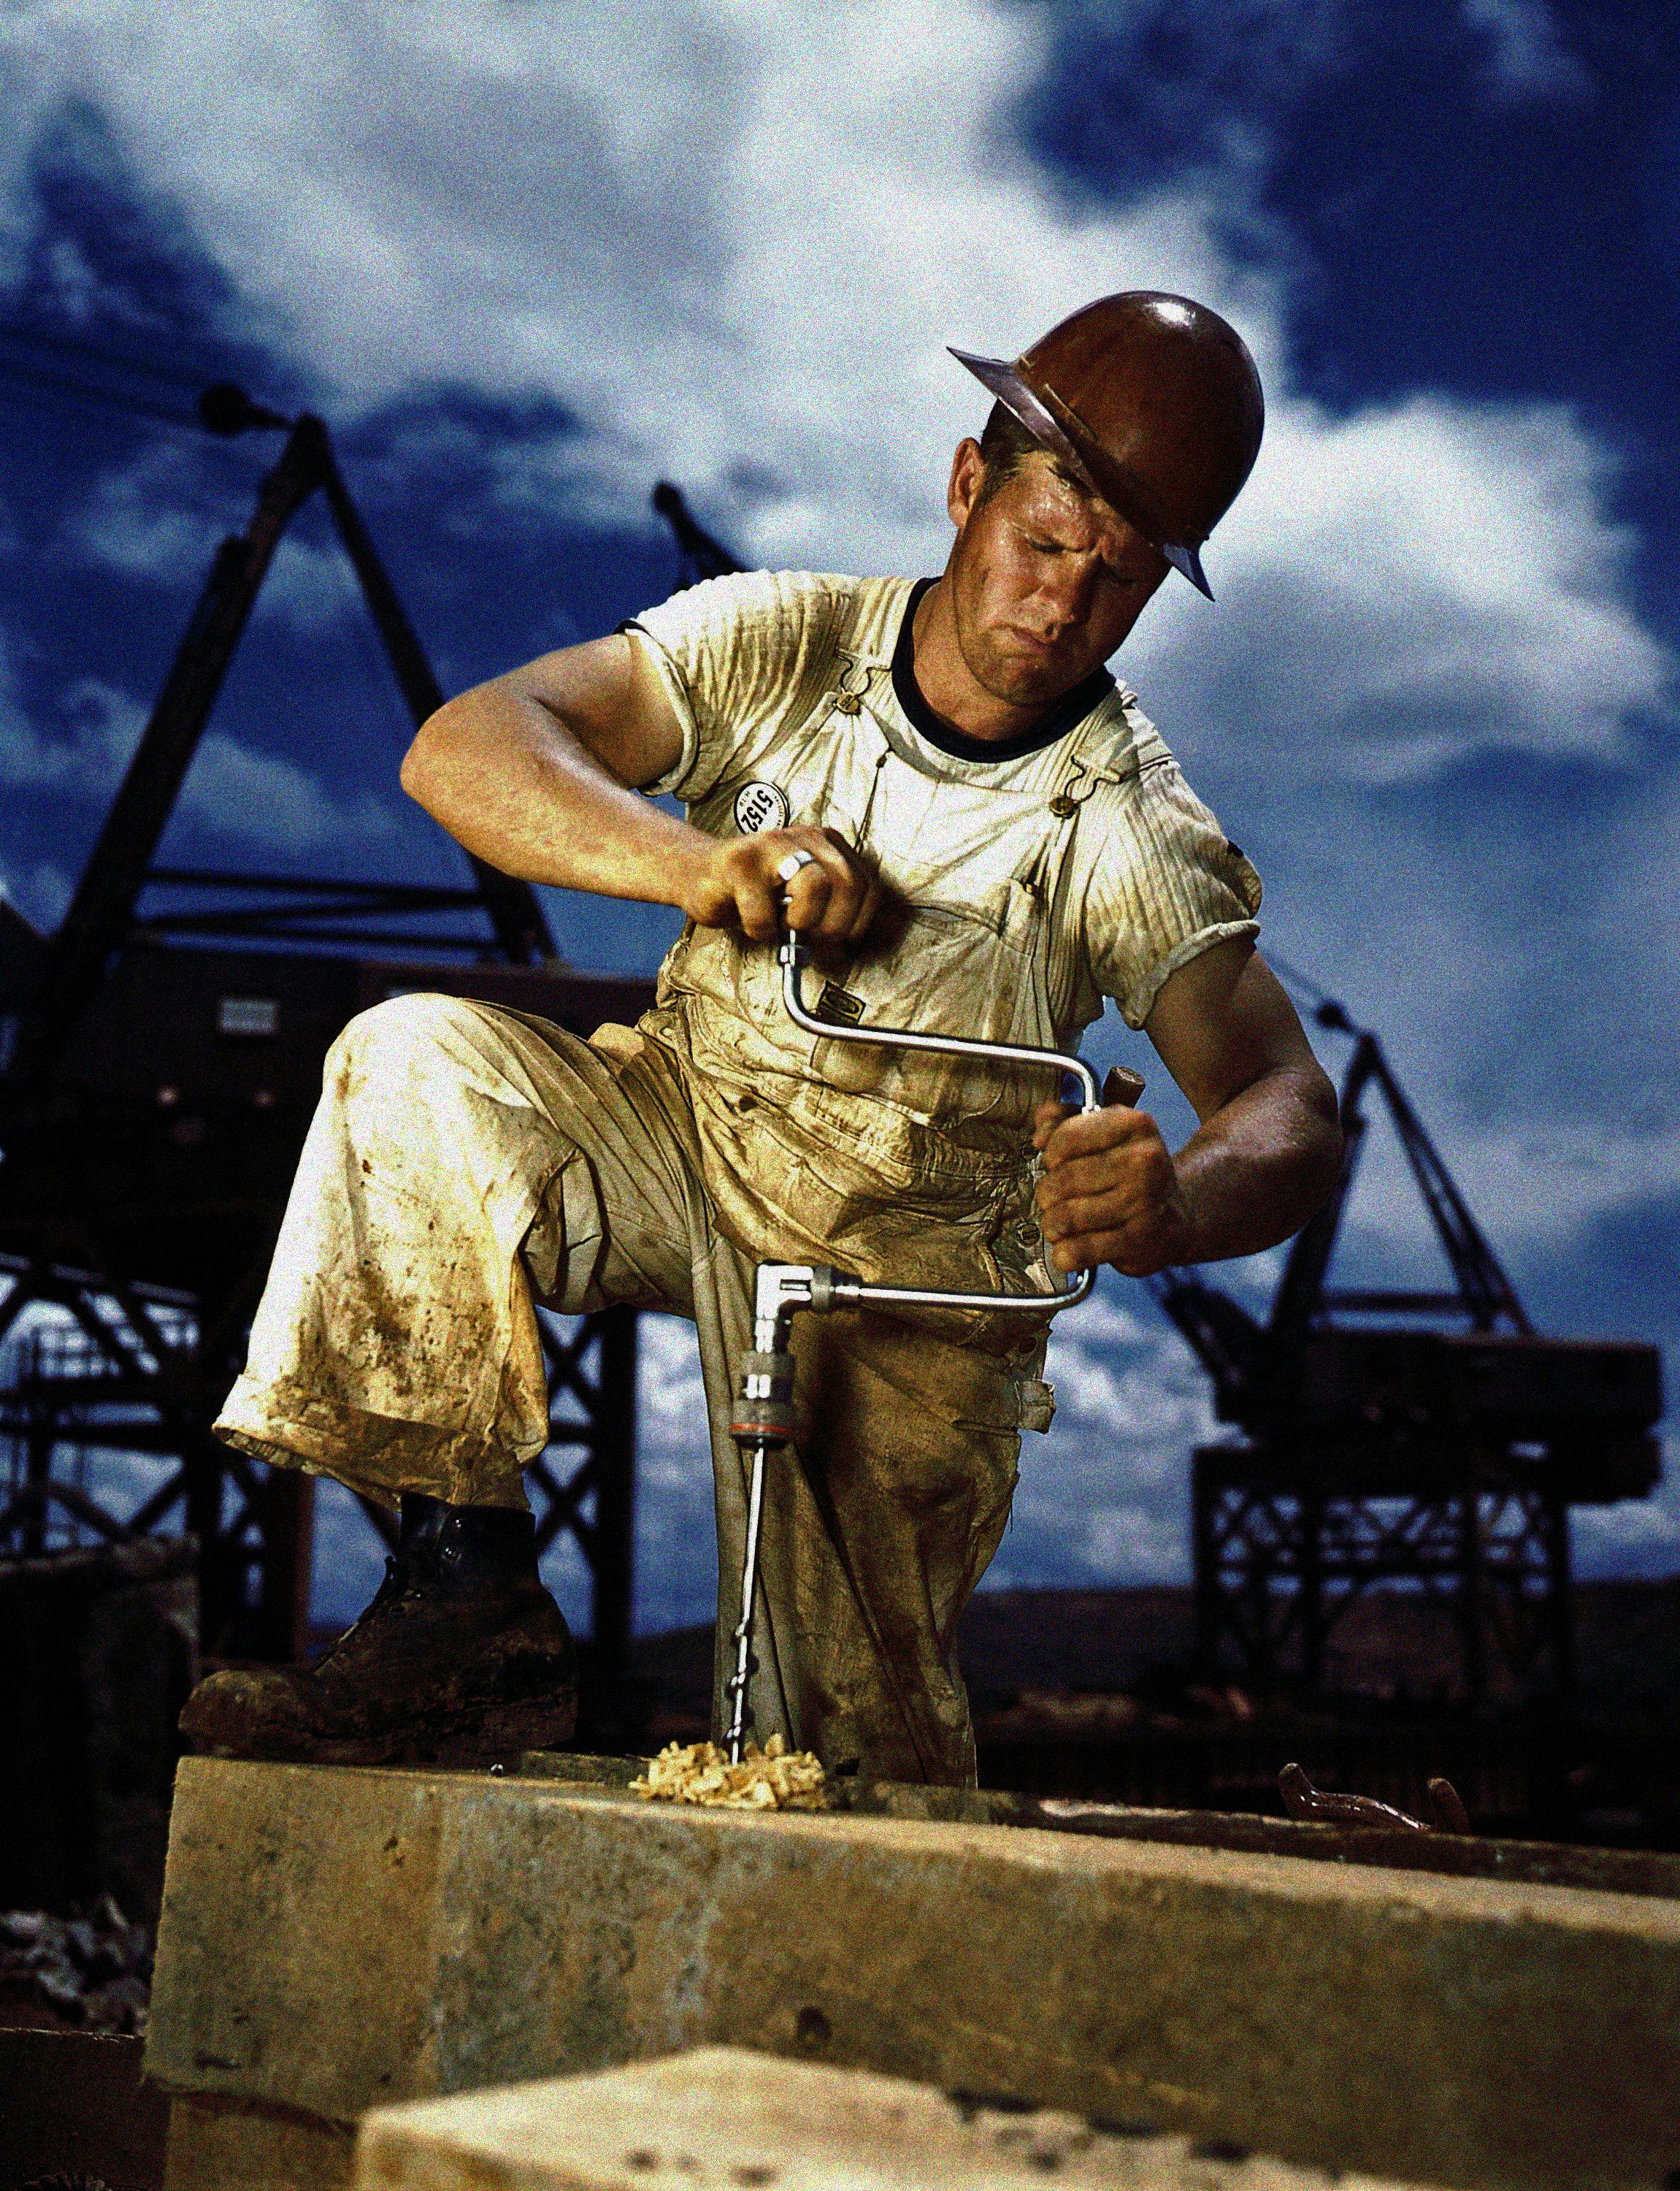helmet: (928, 282, 1271, 717)
